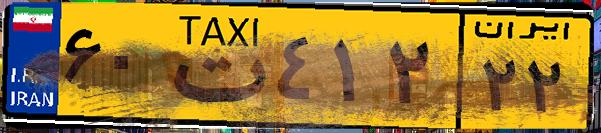0: (110, 28, 158, 98)
1: (330, 28, 385, 110)
2: (385, 28, 445, 110), (475, 38, 525, 113), (525, 38, 570, 115)
4: (270, 28, 330, 110)
6: (57, 26, 110, 100)
ت: (158, 12, 270, 120)
